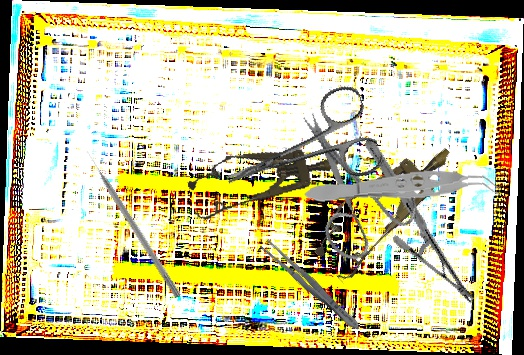Dressing Forceps: (257, 236, 365, 335)
Iris Scissors: (261, 108, 437, 276), (210, 80, 387, 221)
Needle Holder: (321, 137, 518, 305)
Pusher: (84, 148, 183, 299)
Speculum: (302, 126, 470, 287), (183, 132, 345, 225)
Tissue Forceps: (303, 165, 504, 211)
